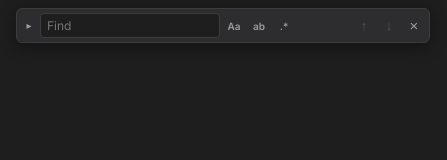
Scenario: FindWidget › shows the match count as the query is typed
In the field with placeholder "Find": (130, 26) [40, 13, 220, 38], type "hello"
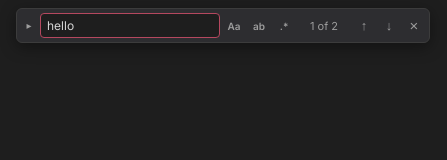
Expected: the text "1 of 2" is shown, [310, 18, 338, 32]
